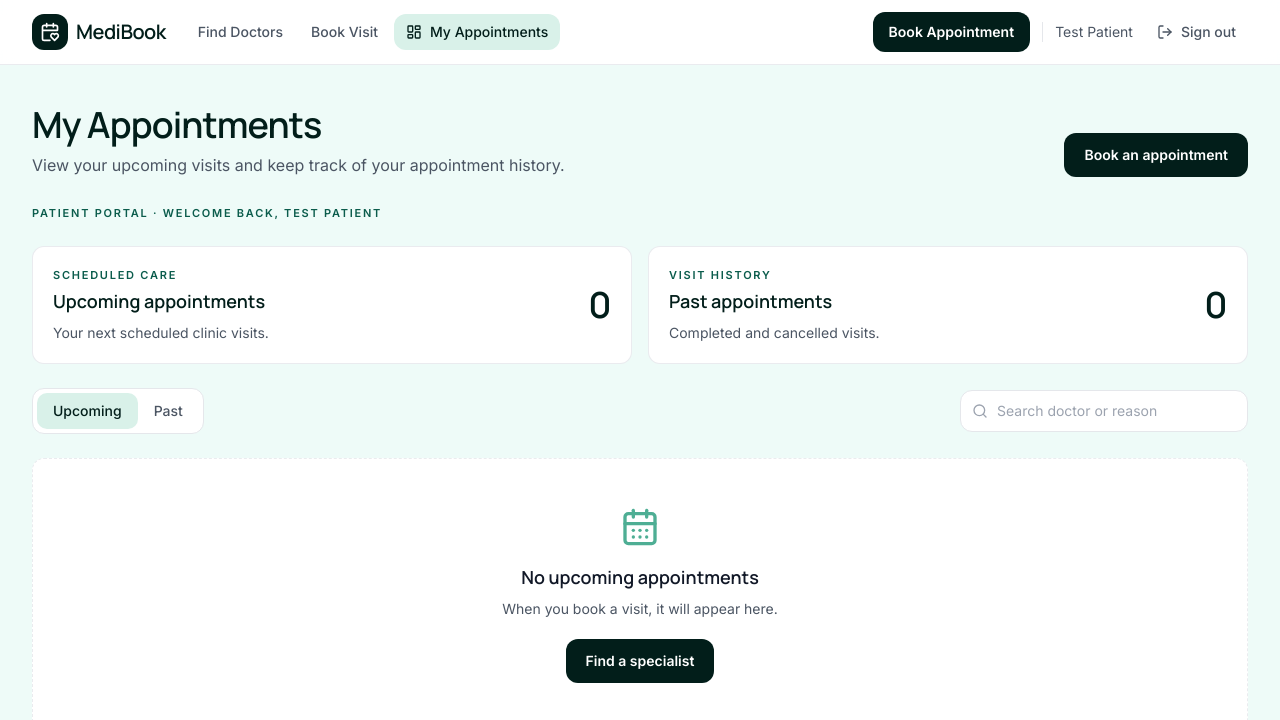
Test case: Authentication flows with the real provider and route guards › signs out to the landing page and clears private caches
Expected: the heading "My Appointments" is shown, top-left (32, 100), bottom-right (322, 149)
Click the button "Sign out". click: (1196, 32)
box: top-left (1145, 14), bottom-right (1248, 50)
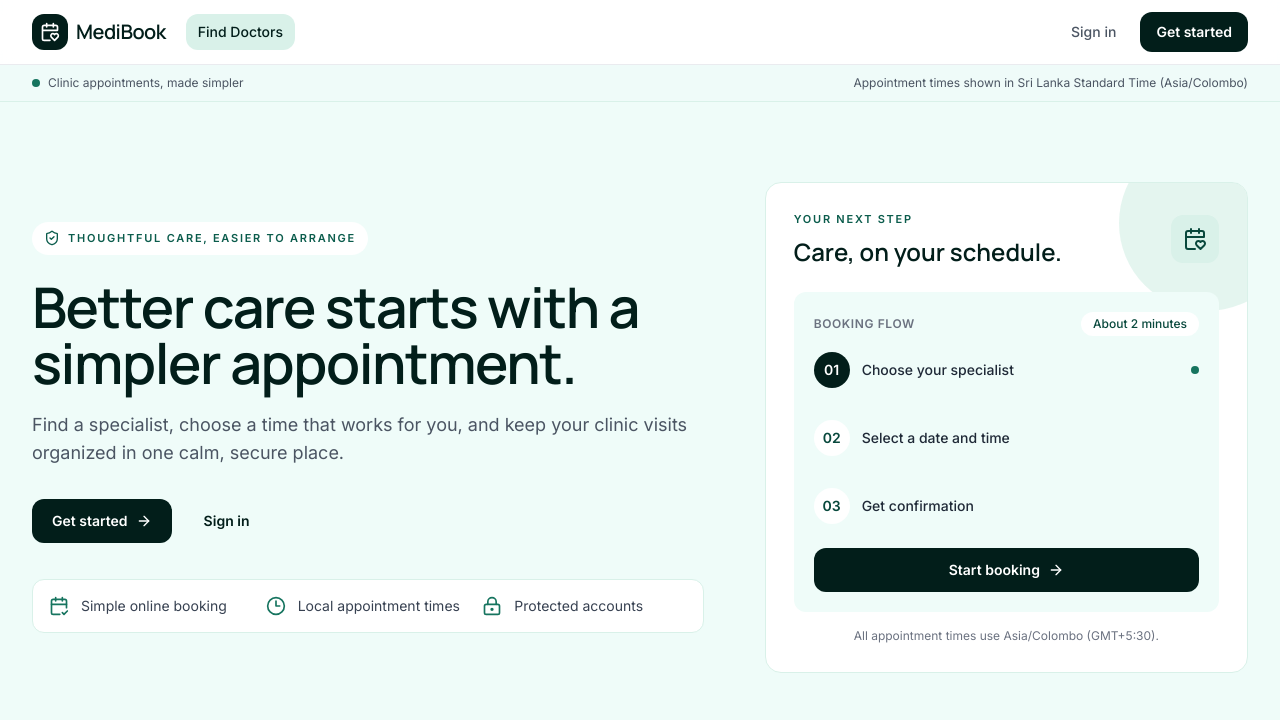
Expected: the heading "Better care starts with a simpler appointment." is shown, top-left (32, 278), bottom-right (725, 390)
Expected: the button "Sign out" is gone
